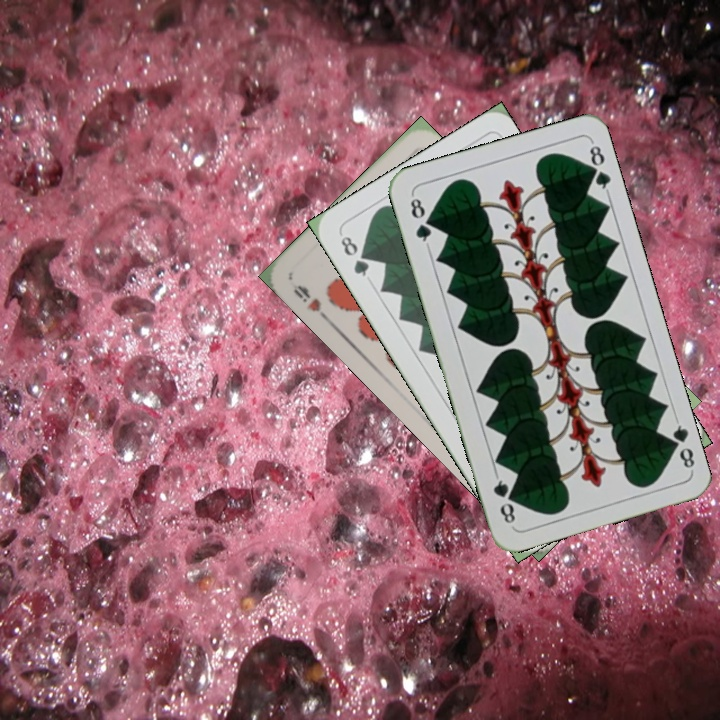G8: (662, 415, 698, 474), (336, 232, 372, 280), (406, 191, 434, 249)
H9: (288, 280, 333, 325)
